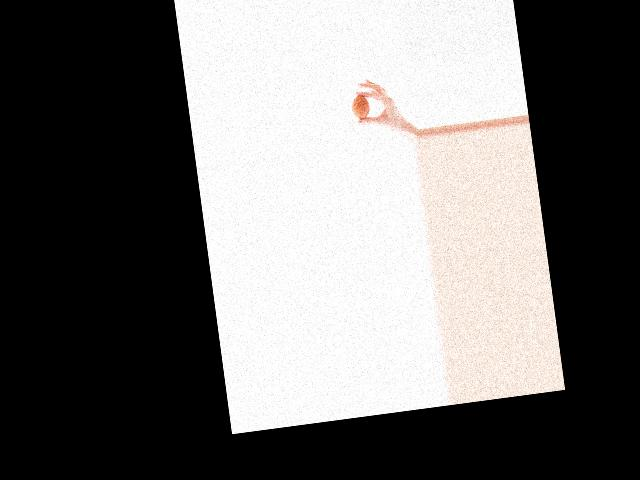egg: (350, 94, 370, 120)
